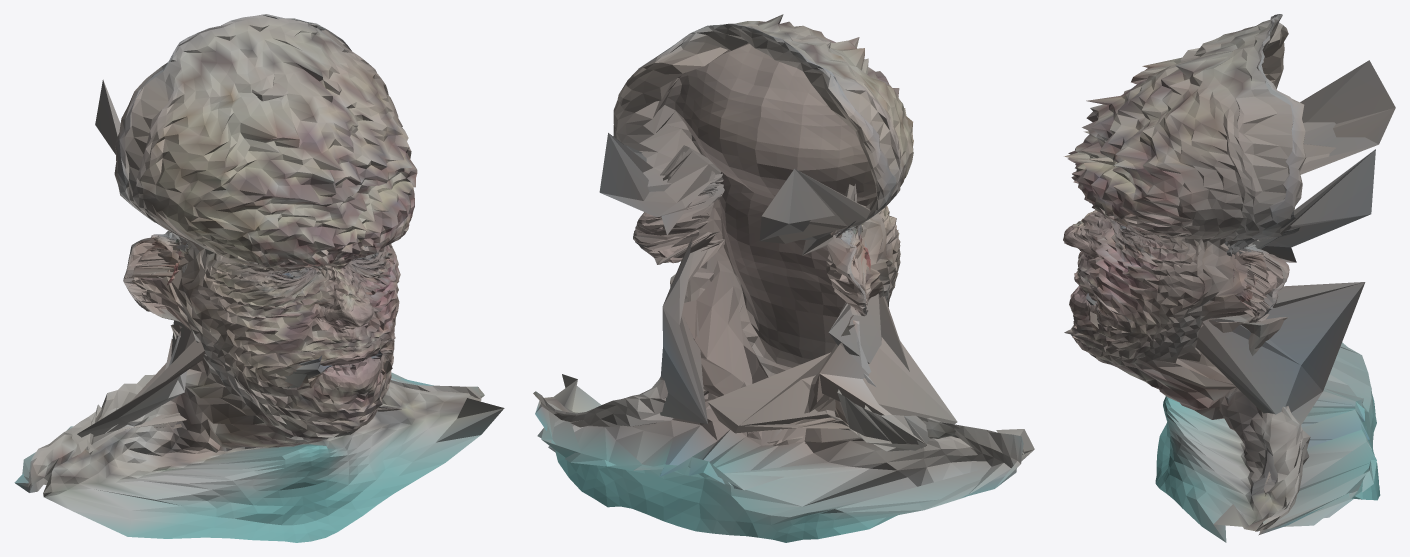
Rendered from chibi_textured_mesh.obj.
The picture shows the model from 3 angles, left to right: view 1: azimuth 30°, elevation 25°; view 2: azimuth 150°, elevation 25°; view 3: azimuth 270°, elevation 25°; orthographic projection. The views are drawn at different scales.
Bounding box in the file's own units: 0.3271 × 0.3176 × 0.2148.
